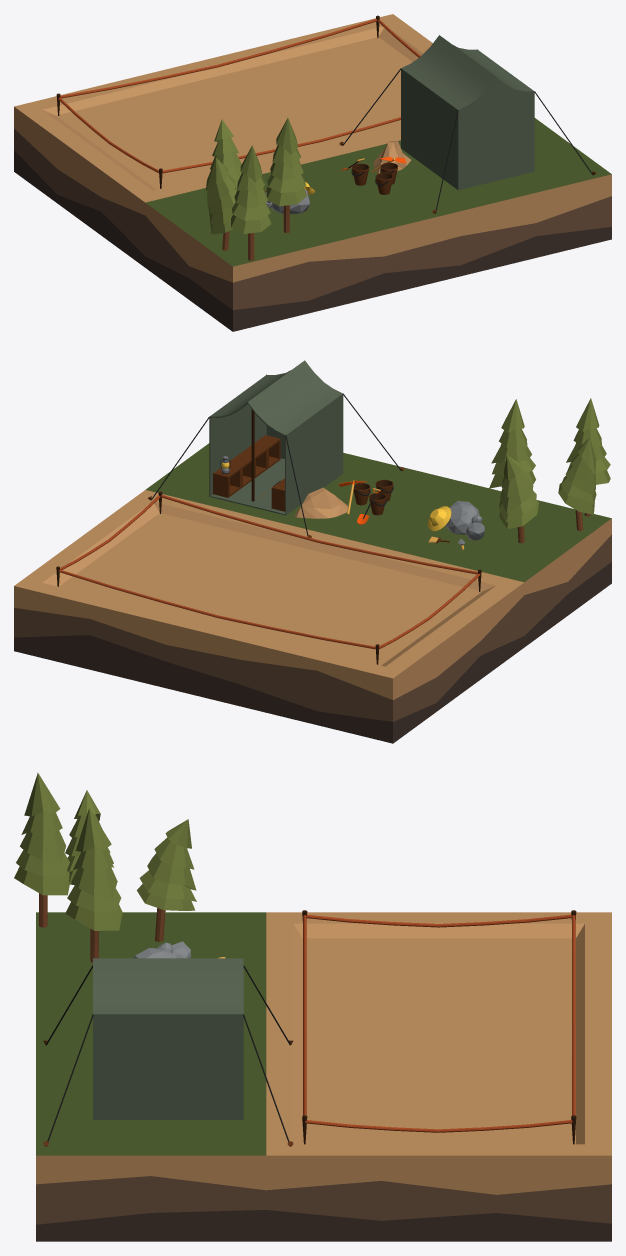
File: main_site.fbx
3 views of the same model, one above another, from view 1: azimuth 30°, elevation 25°; view 2: azimuth 150°, elevation 25°; view 3: azimuth 270°, elevation 25° (orthographic). The views are drawn at different scales.
Parts seen in each view (by area): view 1: Yer, çadır, Tree.005, Tree.032, Tree.034, ip, Tree.031, ip.001, Icosphere.002; view 2: Yer, çadır, Tree.031, Tree.034, Tree.032, Tree.005, Icosphere.002, Icosphere.001, ip.001, ip; view 3: Yer, çadır, Tree.005, Tree.032, Tree.031, ip.002, ip.003, Tree.034, ip, ip.001, Icosphere.001.
Part boxes in pixels (<box>): Yer: <box>14,14,611,331</box>; çadır: <box>339,35,595,213</box>; Tree.005: <box>231,145,271,260</box>; Tree.032: <box>266,118,306,232</box>; Tree.034: <box>205,158,236,250</box>; ip: <box>60,19,377,98</box>; Tree.031: <box>207,119,241,190</box>; ip.001: <box>162,117,400,173</box>; Icosphere.002: <box>373,141,411,173</box>; Yer: <box>14,443,611,743</box>; çadır: <box>148,360,404,537</box>; Tree.031: <box>499,455,538,543</box>; Tree.034: <box>558,438,596,530</box>; Tree.032: <box>489,399,535,488</box>; Tree.005: <box>566,398,610,516</box>; Icosphere.002: <box>294,487,347,518</box>; Icosphere.001: <box>446,501,485,540</box>; ip.001: <box>161,495,477,574</box>; ip: <box>59,569,375,649</box>; Yer: <box>36,912,611,1241</box>; çadır: <box>43,958,293,1146</box>; Tree.005: <box>14,773,69,927</box>; Tree.032: <box>65,808,122,962</box>; Tree.031: <box>137,819,196,941</box>; ip.002: <box>305,1120,572,1132</box>; ip.003: <box>306,914,571,927</box>; Tree.034: <box>65,790,114,885</box>; ip: <box>572,915,575,1115</box>; ip.001: <box>303,915,306,1115</box>; Icosphere.001: <box>134,941,191,958</box>.
Size of the model in its own units: 18.22 by 8.22 by 18.66.
